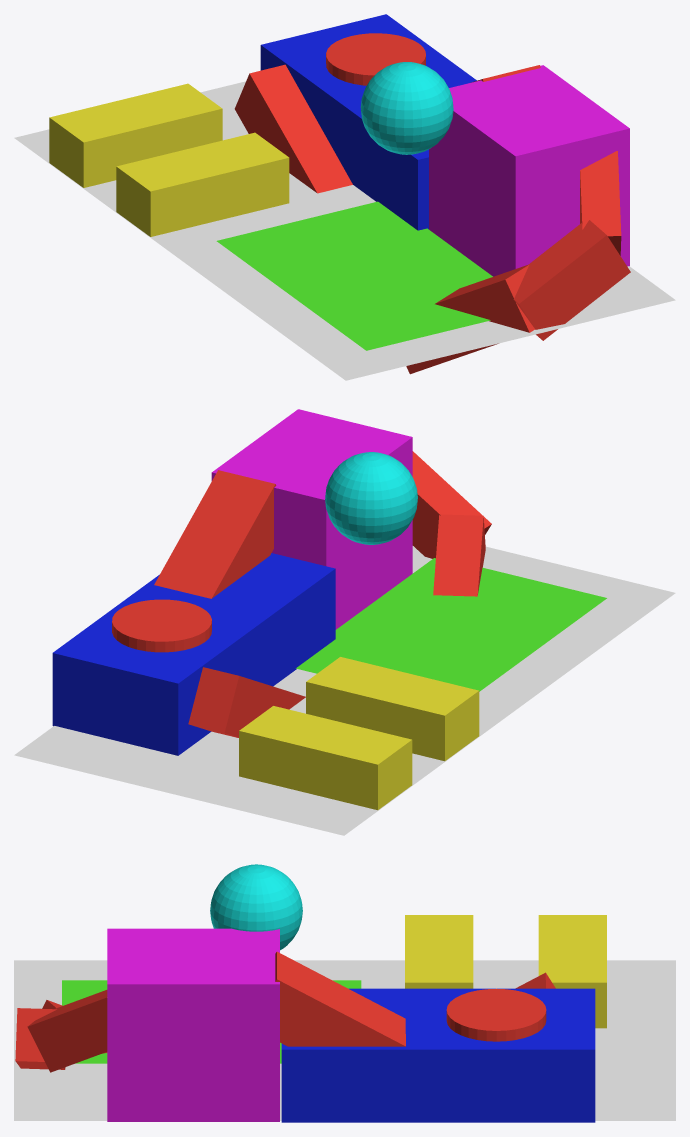
The model's file is Level Prototype V1 merged.fbx.
The picture shows the model from 3 angles, top to bottom: view 1: azimuth 30°, elevation 25°; view 2: azimuth 150°, elevation 25°; view 3: azimuth 270°, elevation 25°; orthographic projection.
Parts seen in each view (by area): view 1: Plane.009; view 2: Plane.009; view 3: Plane.009.
Boxes of the visible parts, x1,y1,x2,y2 form: Plane.009: (14,14,675,380); Plane.009: (14,409,675,835); Plane.009: (14,864,675,1122).
Bounding box in the file's own units: 4289 × 3169 × 7424.
